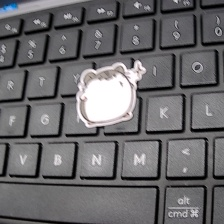mouse: (75, 59, 146, 131)
